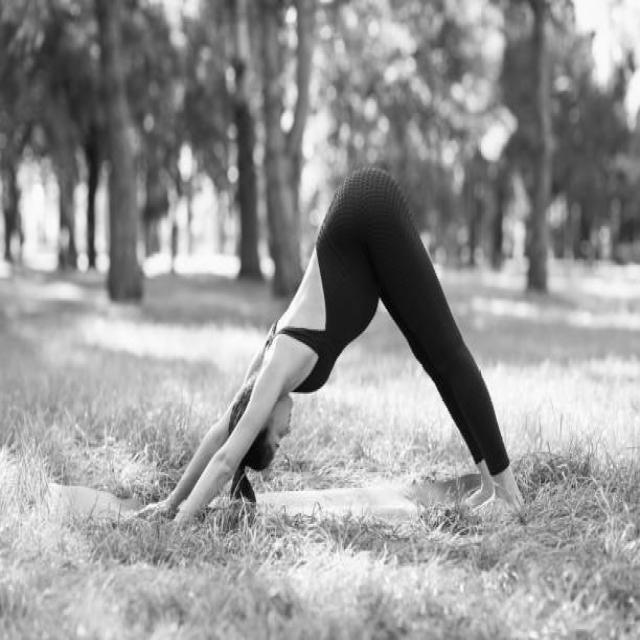Downward-Facing_Dog: (123, 159, 548, 543)
